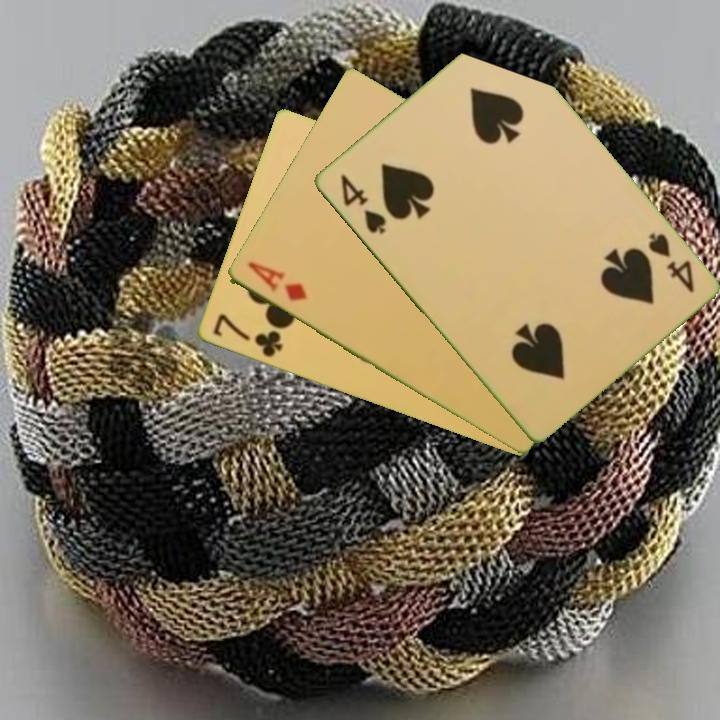4s: (643, 229, 697, 296), (336, 170, 389, 237)
7c: (209, 310, 285, 361)
Ad: (243, 258, 310, 304)
